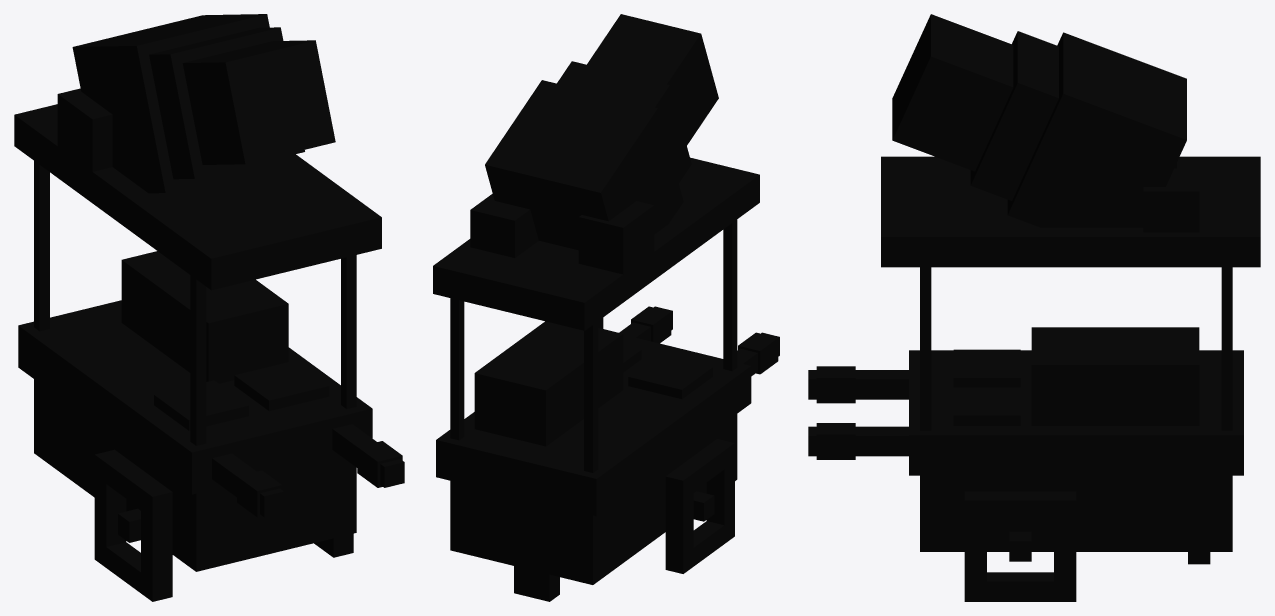
The model's file is ice_cream_stand.glb.
3 renders of one model, left to right at view 1: azimuth 30°, elevation 25°; view 2: azimuth 150°, elevation 25°; view 3: azimuth 270°, elevation 25°, orthographic. The views are drawn at different scales.
Visible parts, largest first — view 1: root; view 2: root; view 3: root.
Part boxes in pixels (x1,y1,x2,y2): root: (14, 14, 404, 601); root: (433, 14, 779, 601); root: (808, 14, 1260, 601).
Size of the model in its own units: 0.8064 by 2.07 by 1.63.
1 material, 1 textured.
